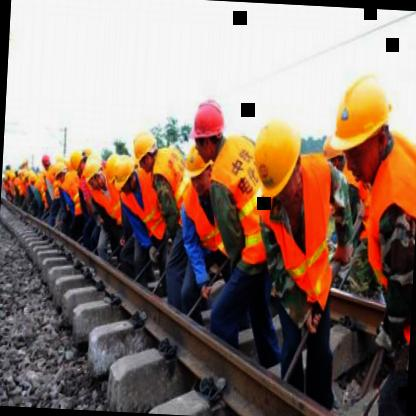helmet: (324, 63, 399, 188), (245, 112, 306, 212), (187, 94, 229, 170), (185, 146, 216, 199), (128, 124, 158, 178), (318, 130, 350, 180), (83, 150, 110, 193), (110, 155, 138, 195), (101, 148, 122, 188), (49, 156, 69, 187), (66, 148, 84, 178)
